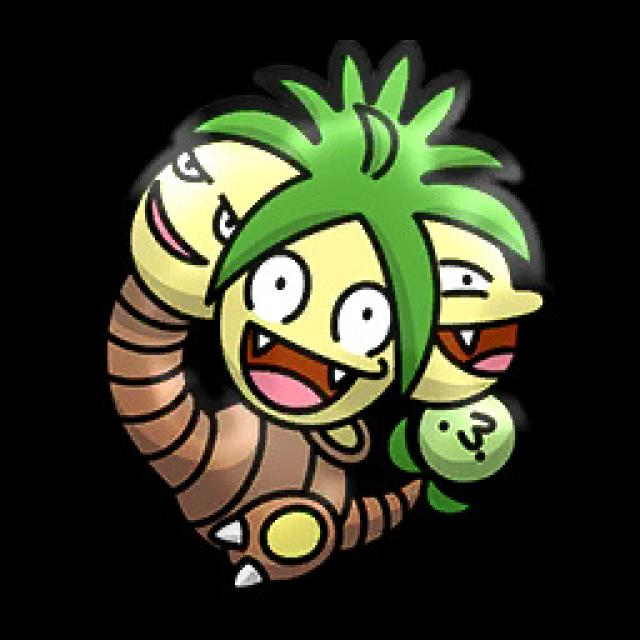Exeggutor: (96, 42, 556, 596)
